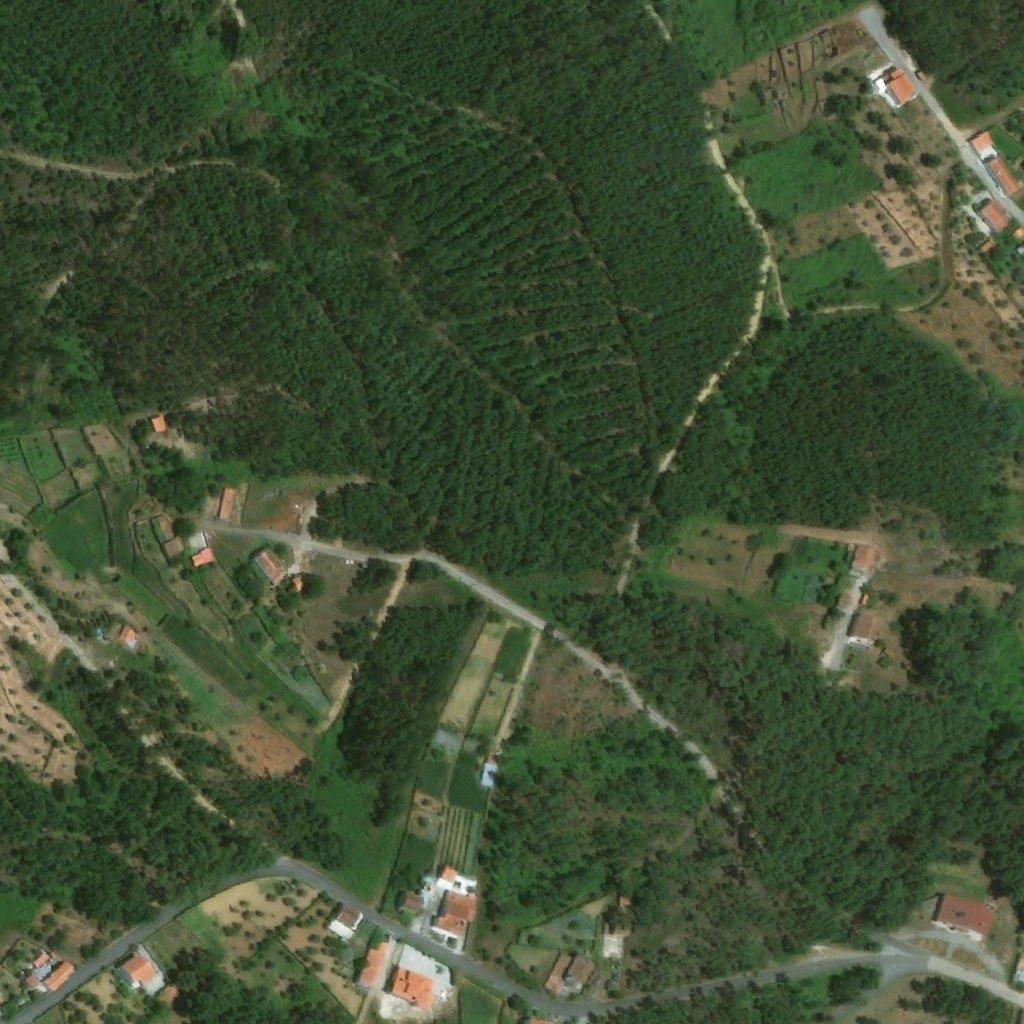0 no-damage: (933, 893, 995, 935), (431, 890, 478, 944), (387, 966, 434, 1014), (604, 889, 647, 939), (356, 939, 391, 990), (153, 515, 190, 563), (116, 954, 158, 990), (326, 903, 365, 940), (985, 158, 1021, 198), (564, 953, 598, 993), (883, 67, 916, 107), (254, 548, 286, 588), (546, 952, 575, 995), (44, 961, 77, 994), (976, 202, 1010, 233), (155, 980, 185, 1009), (433, 727, 464, 755), (848, 614, 875, 643), (851, 544, 878, 571), (397, 892, 426, 915), (218, 487, 235, 522), (970, 131, 994, 153), (191, 547, 214, 569), (291, 572, 311, 595), (30, 950, 52, 970), (438, 865, 459, 885), (480, 761, 494, 789), (119, 628, 137, 646), (152, 416, 169, 434), (979, 238, 996, 254), (526, 1014, 555, 1023), (26, 976, 41, 991), (835, 594, 851, 608), (862, 590, 874, 607), (1012, 227, 1023, 243)
4 un-classified: (1011, 954, 1023, 985), (1016, 244, 1023, 256)
